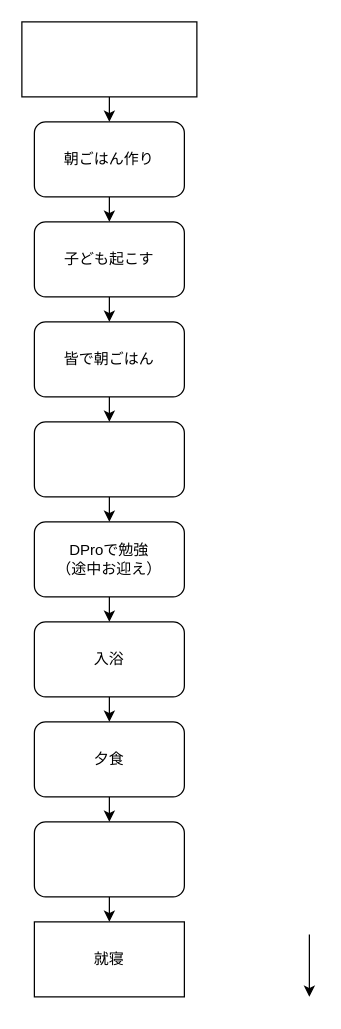
Some shapes in this 341 by 1029 pixel diagram are drawn without their labels. Each missing label, with the centre of its shape:
"保育園へ送る" goes at [108,459].
"子どもの歯磨き" goes at [108,859].
"起床" goes at [109,59].
